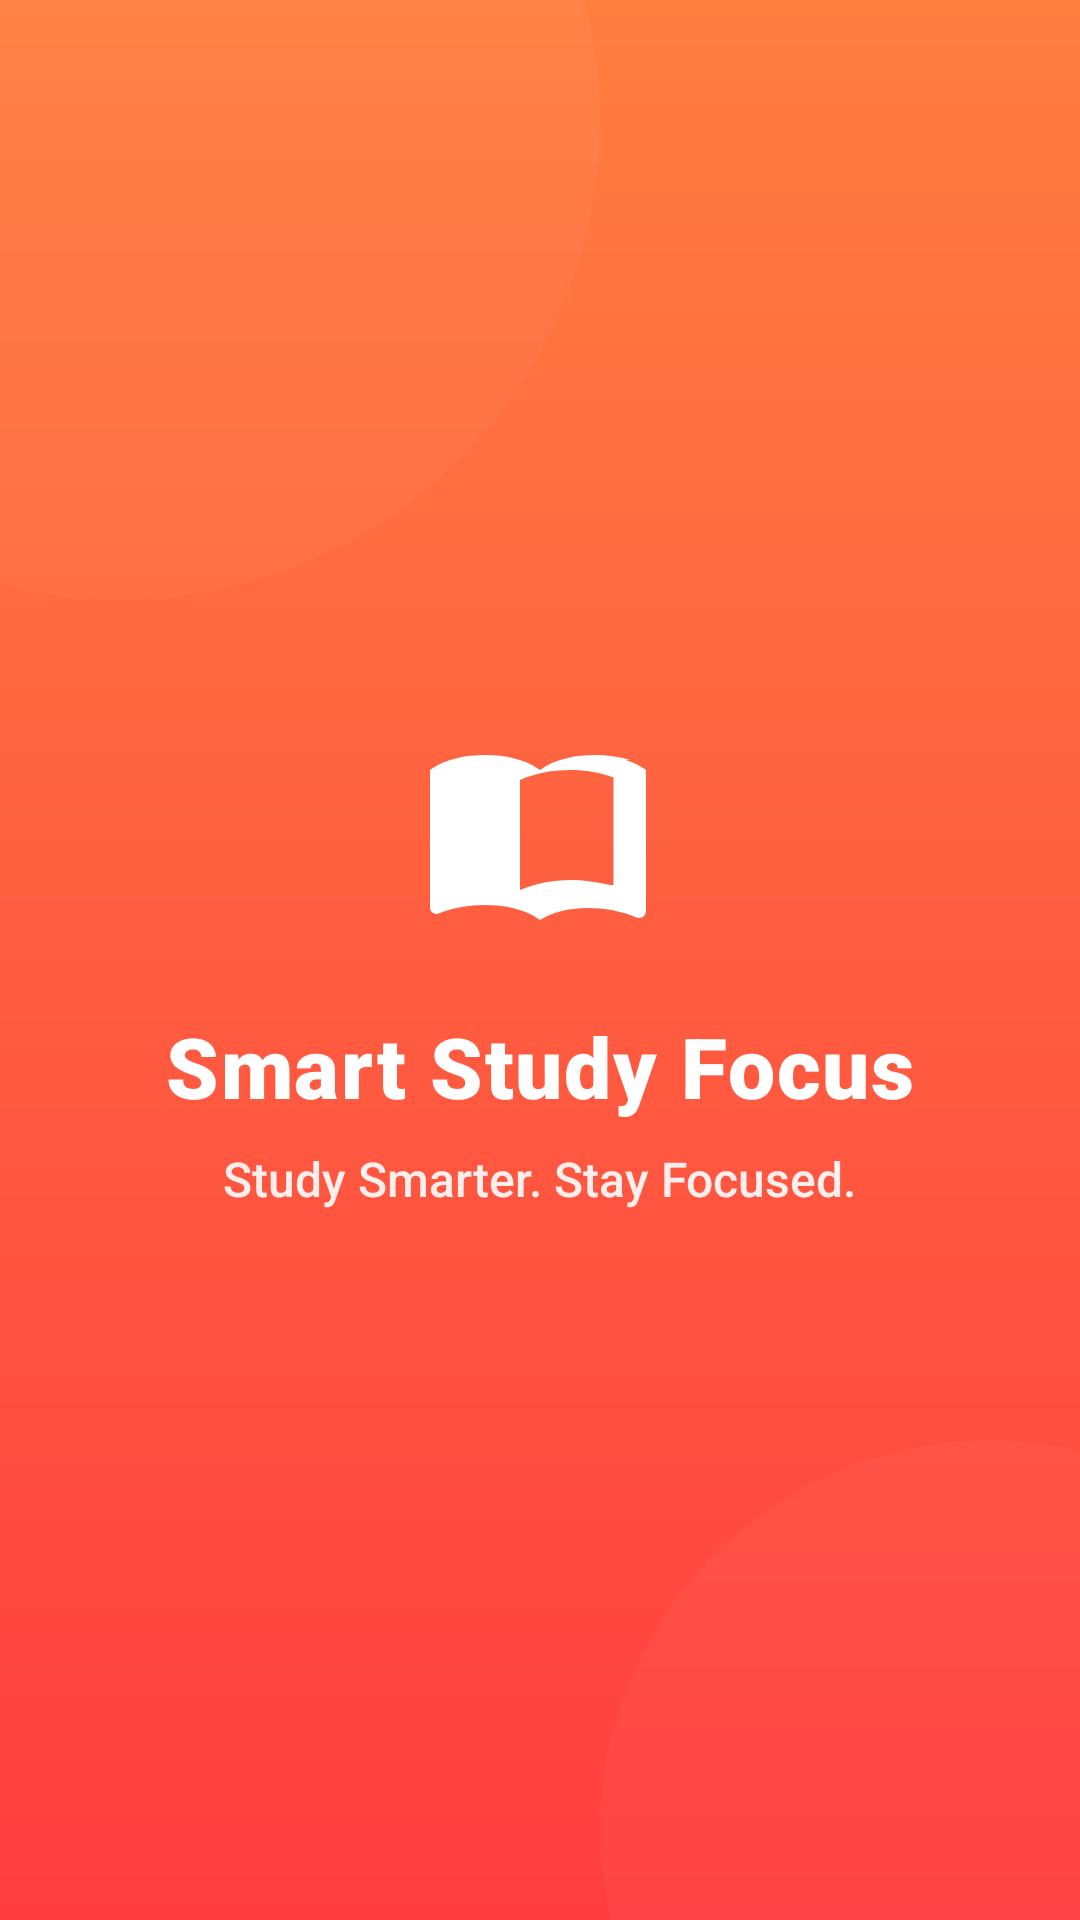

Icon bounding boxes for this 1080*1920 phone screenshot, format (x1, y1, x2, y2):
book: (430, 755, 646, 920)
